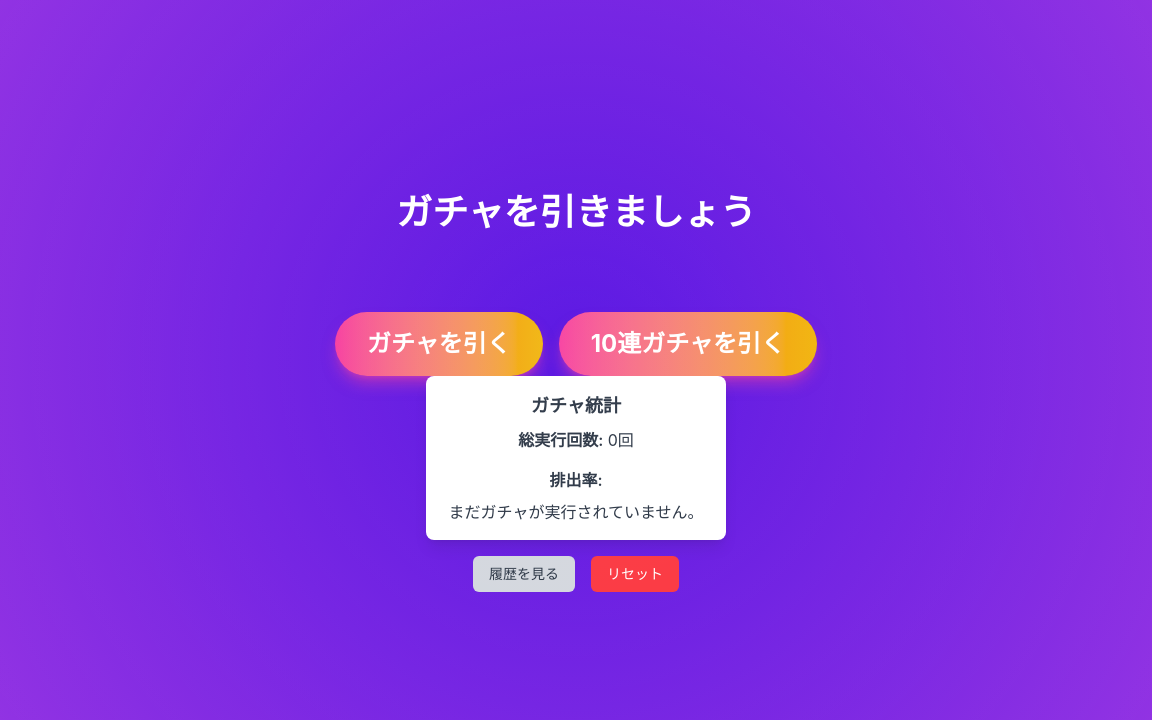
App component › navigates to history page
Step 1. Click the link "履歴を見る" → coordinates (524, 574), box [473, 556, 575, 592]
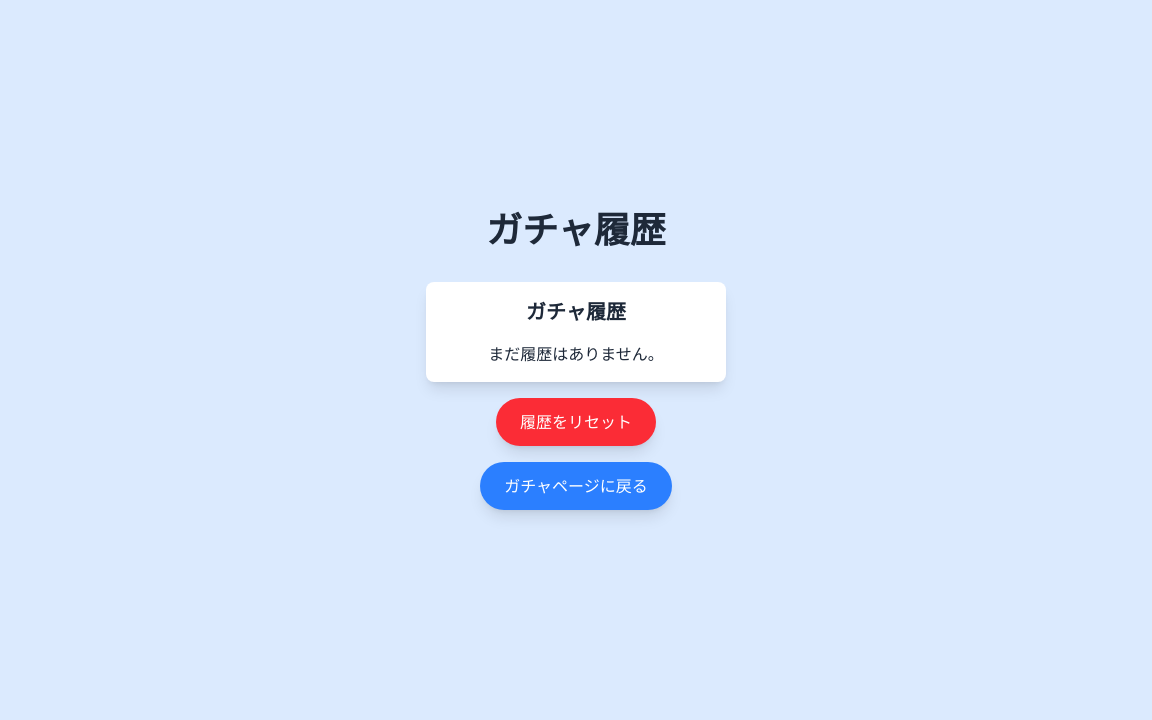
Expected: the 1st heading "ガチャ履歴" is shown, [486, 210, 666, 250]
